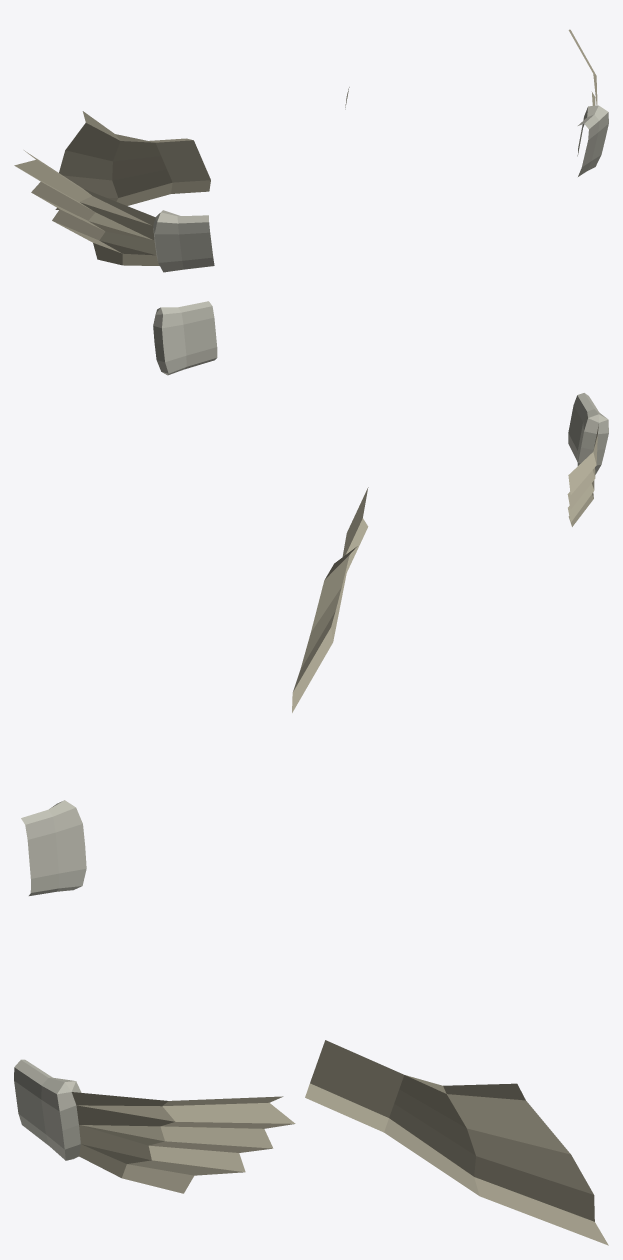
The model's file is goldfish.glb.
The picture shows the model from 3 angles, top to bottom: view 1: azimuth 30°, elevation 25°; view 2: azimuth 150°, elevation 25°; view 3: azimuth 270°, elevation 25°; orthographic projection. The views are drawn at different scales.
Visible parts, largest first — view 1: cutefish__Goldfish.glb; view 2: cutefish__Goldfish.glb; view 3: cutefish__Goldfish.glb.
Part boxes in pixels (left/top/right/bottom): cutefish__Goldfish.glb: left=14, top=29, right=608, bottom=272; cutefish__Goldfish.glb: left=153, top=301, right=608, bottom=712; cutefish__Goldfish.glb: left=14, top=800, right=608, bottom=1245.
Size of the model in its own units: 3.28 by 1.07 by 2.3.
